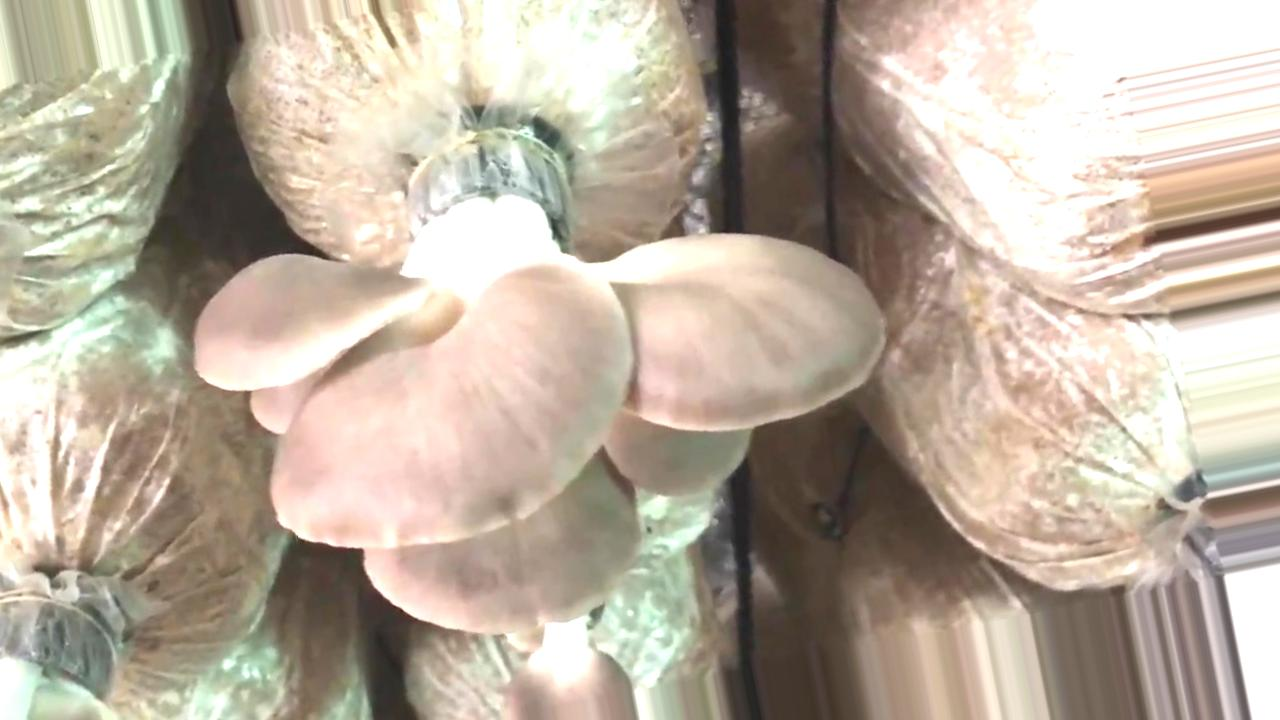nam: (197, 133, 883, 631), (506, 609, 634, 720)
